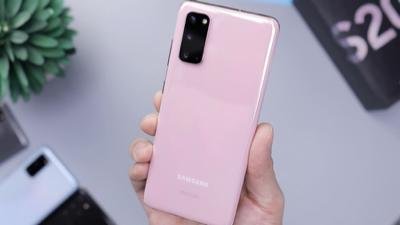Mobile Phone: (142, 0, 280, 224)
